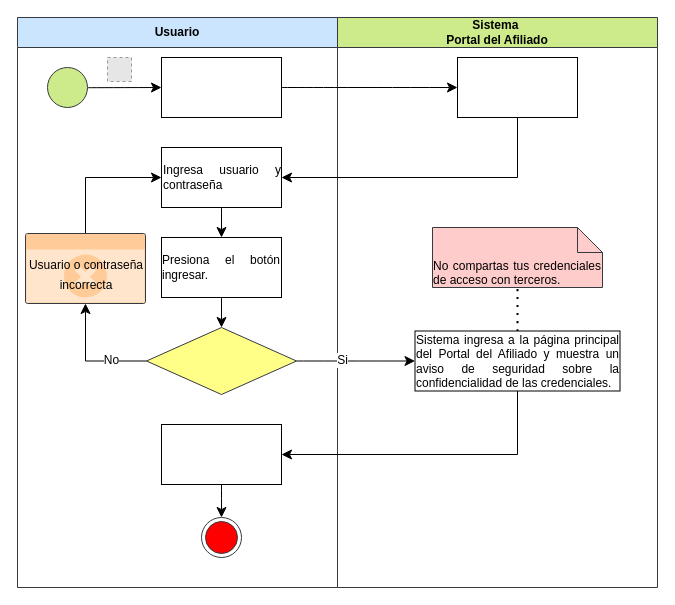
Image size: 675x605. Some labels were removed from this diagram. Grey dashed boxes stand in for pictures. Each missing label, with the box of its shape:
Acepta el aviso: (160, 424, 282, 484)
Ingresa al Portal del afiliado. https://portal-afiliado.igssgt.org/: (160, 56, 282, 118)
Sistema muestra la pantalla de inicio de sesión del Portal del Afiliado.: (456, 56, 578, 118)
¿Credenciales válidas?: (146, 326, 296, 394)
